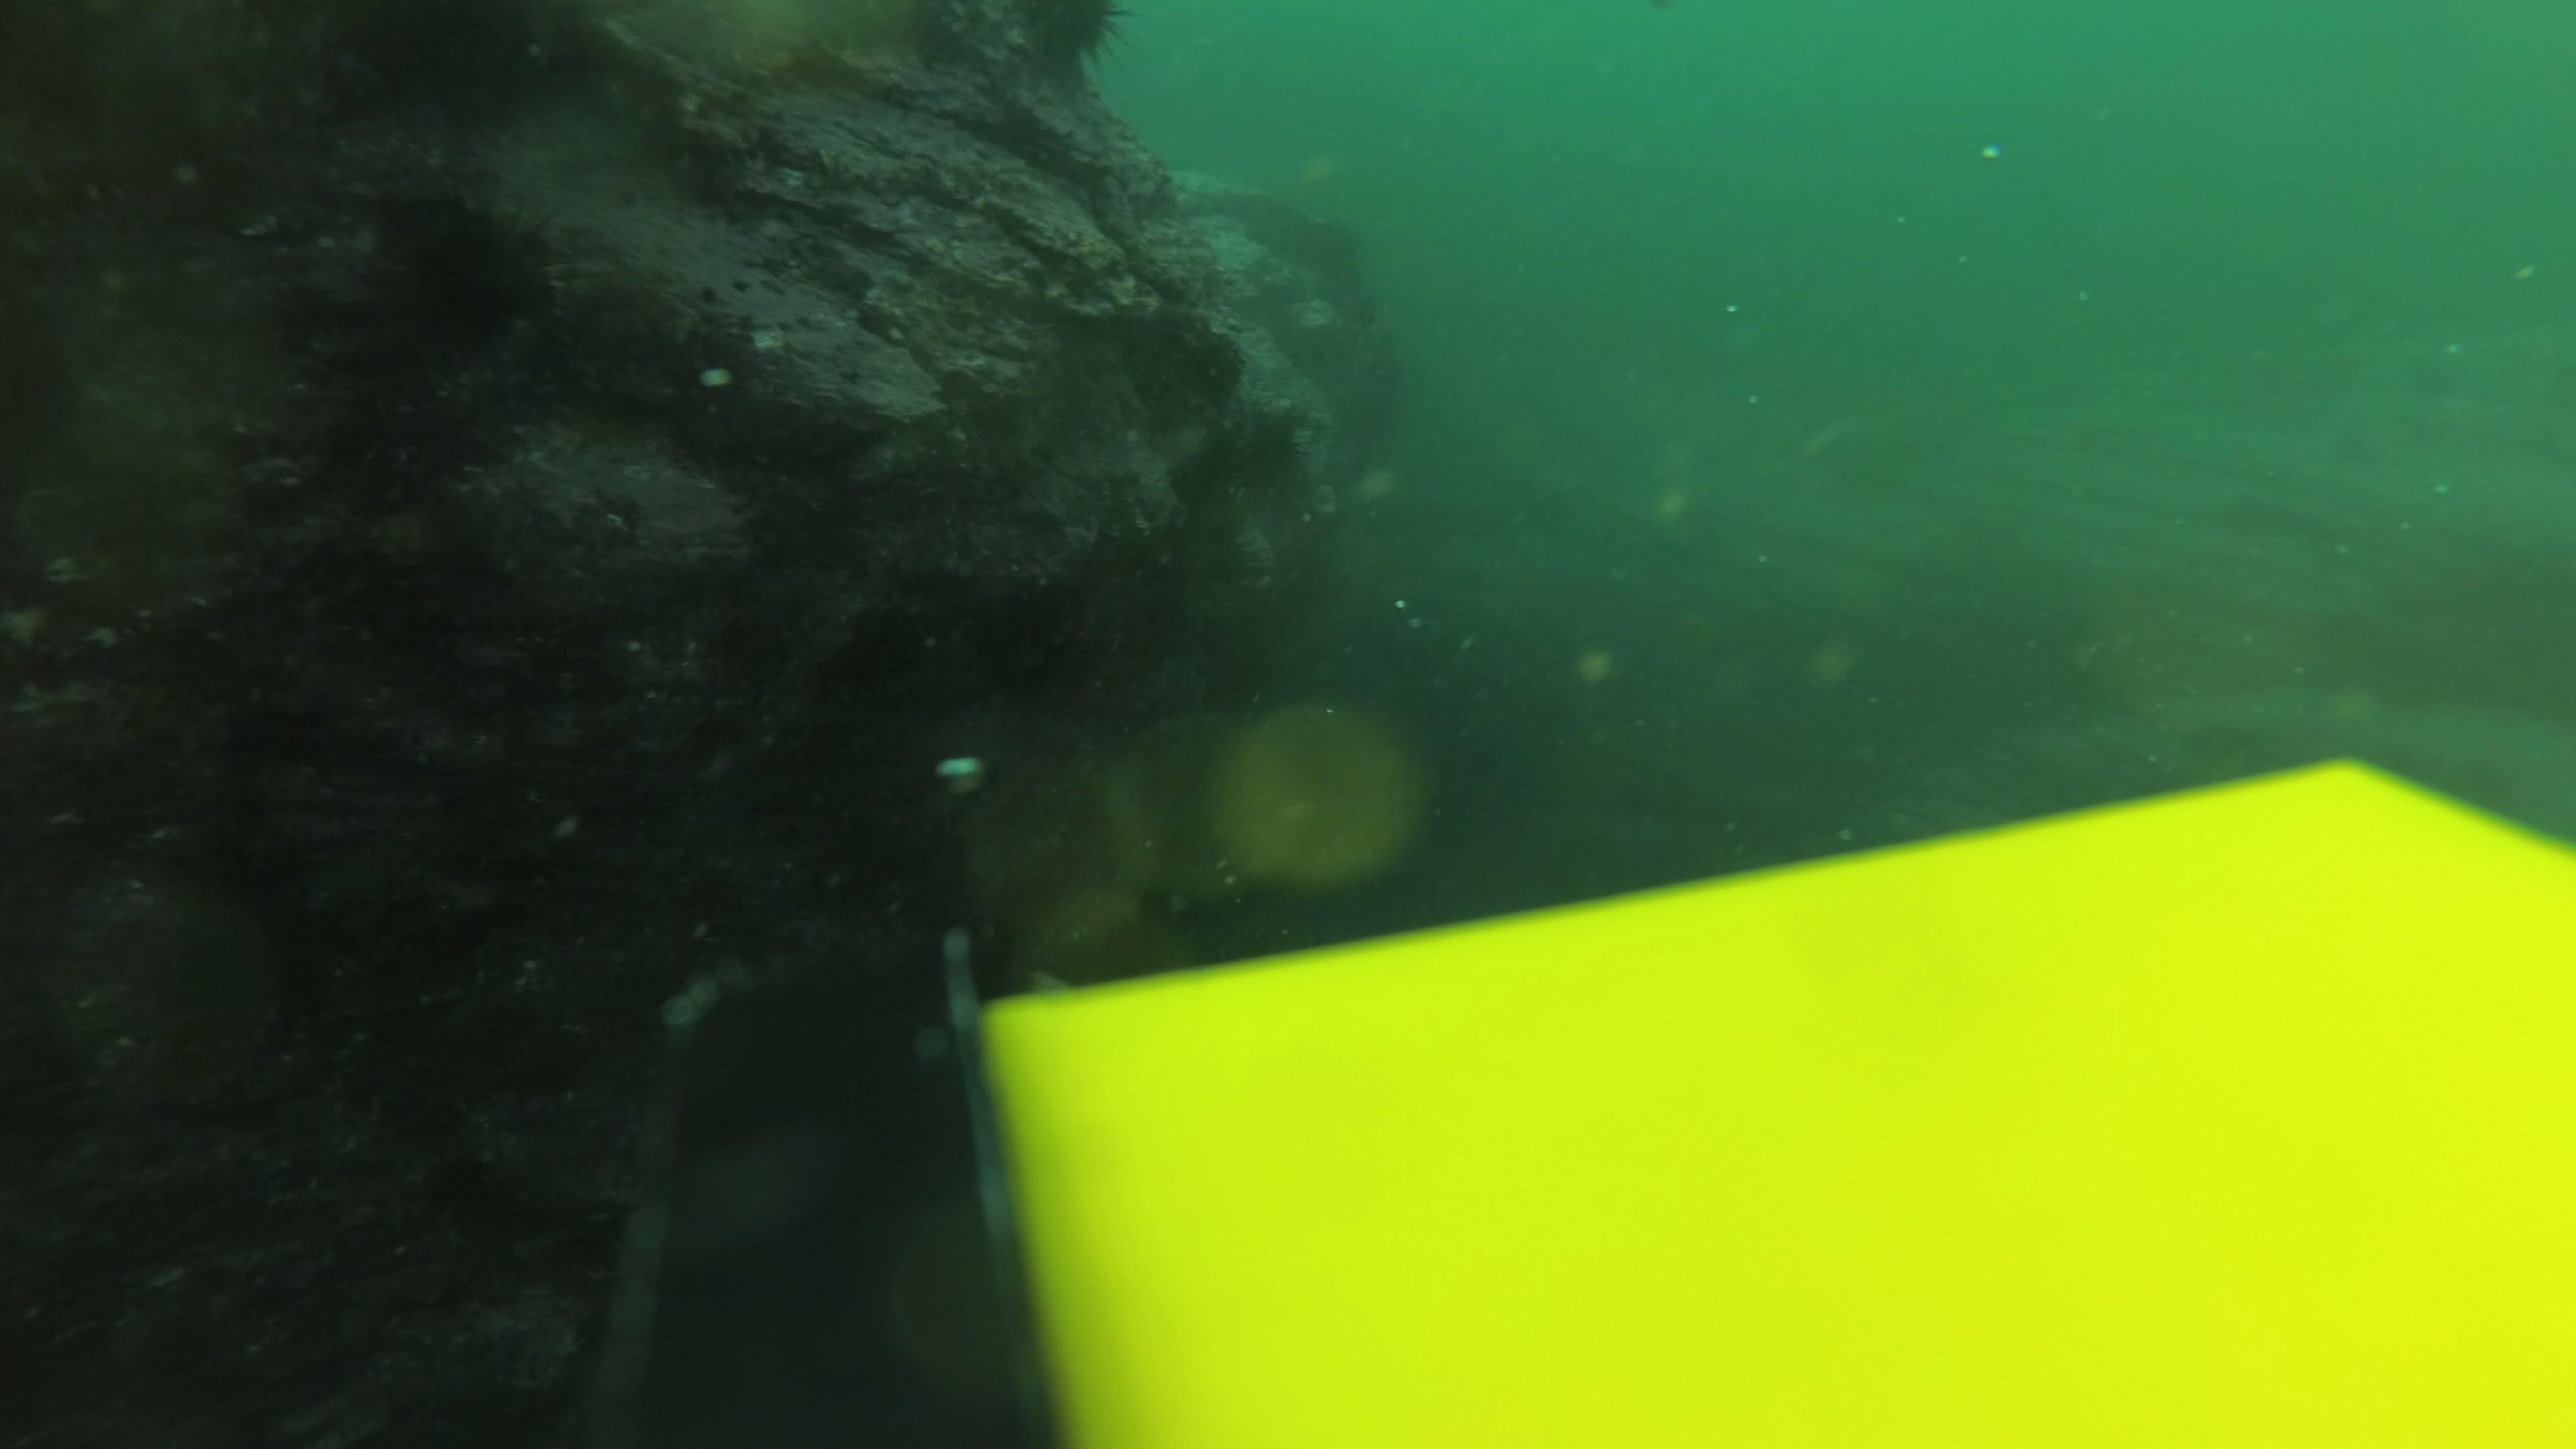echinus: (370, 189, 571, 361), (1001, 0, 1138, 92)
